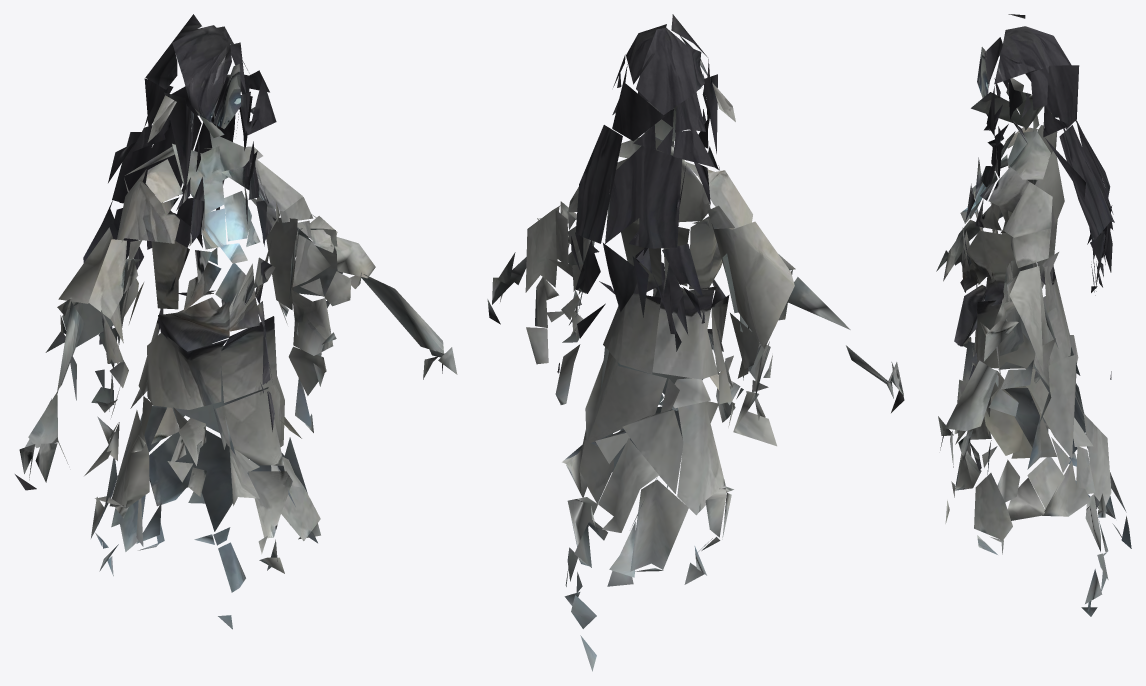
Rendered from river-ghost-mid-900-r1.glb.
3 renders of one model, left to right at view 1: azimuth 30°, elevation 25°; view 2: azimuth 150°, elevation 25°; view 3: azimuth 270°, elevation 25°, orthographic. The views are drawn at different scales.
Visible parts, largest first — view 1: tripo_node_9c2501ef-6a1b-4561-b997-99fa7bf45798; view 2: tripo_node_9c2501ef-6a1b-4561-b997-99fa7bf45798; view 3: tripo_node_9c2501ef-6a1b-4561-b997-99fa7bf45798.
Part boxes in pixels (x1=…): tripo_node_9c2501ef-6a1b-4561-b997-99fa7bf45798: x1=15, y1=14, x2=457, y2=629; tripo_node_9c2501ef-6a1b-4561-b997-99fa7bf45798: x1=487, y1=14, x2=904, y2=671; tripo_node_9c2501ef-6a1b-4561-b997-99fa7bf45798: x1=936, y1=14, x2=1131, y2=616.
Size of the model in its own units: 0.6333 by 0.9579 by 0.27.
Materials: 1 (1 with a texture image).
